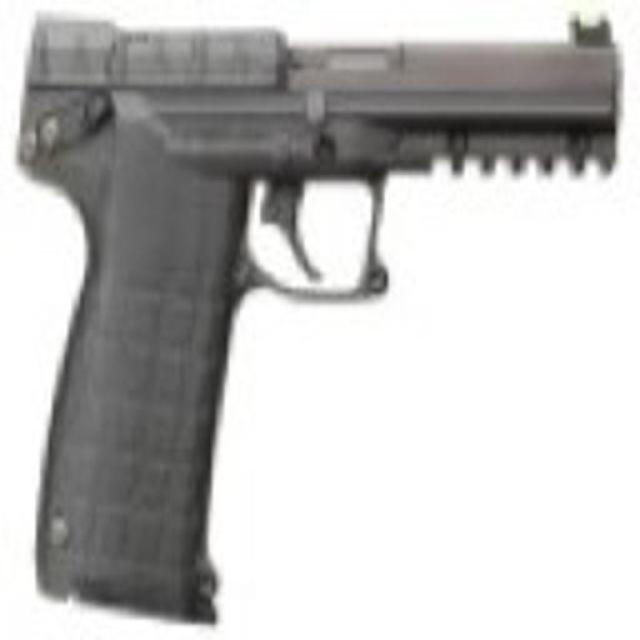pistol: (24, 5, 615, 612)
